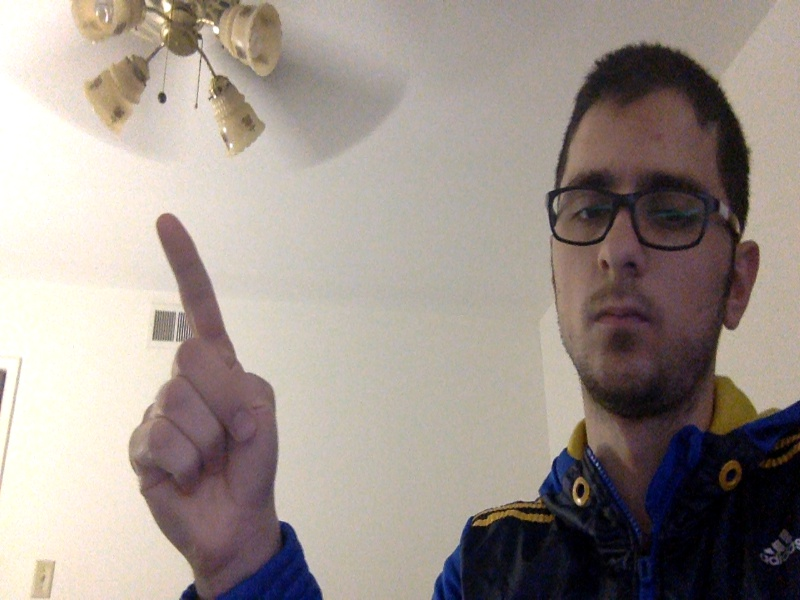1-hand: (130, 212, 278, 570)
